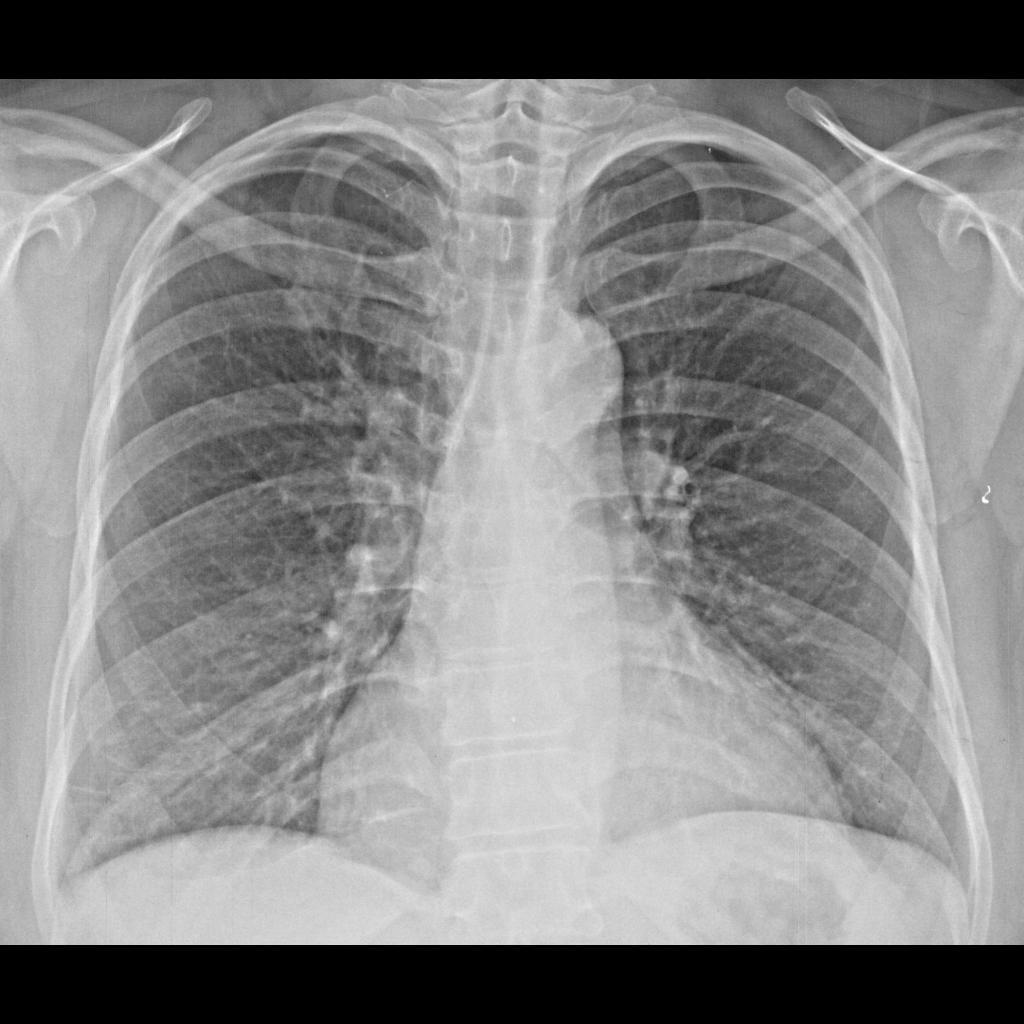Nodule: (273, 269, 348, 345)
